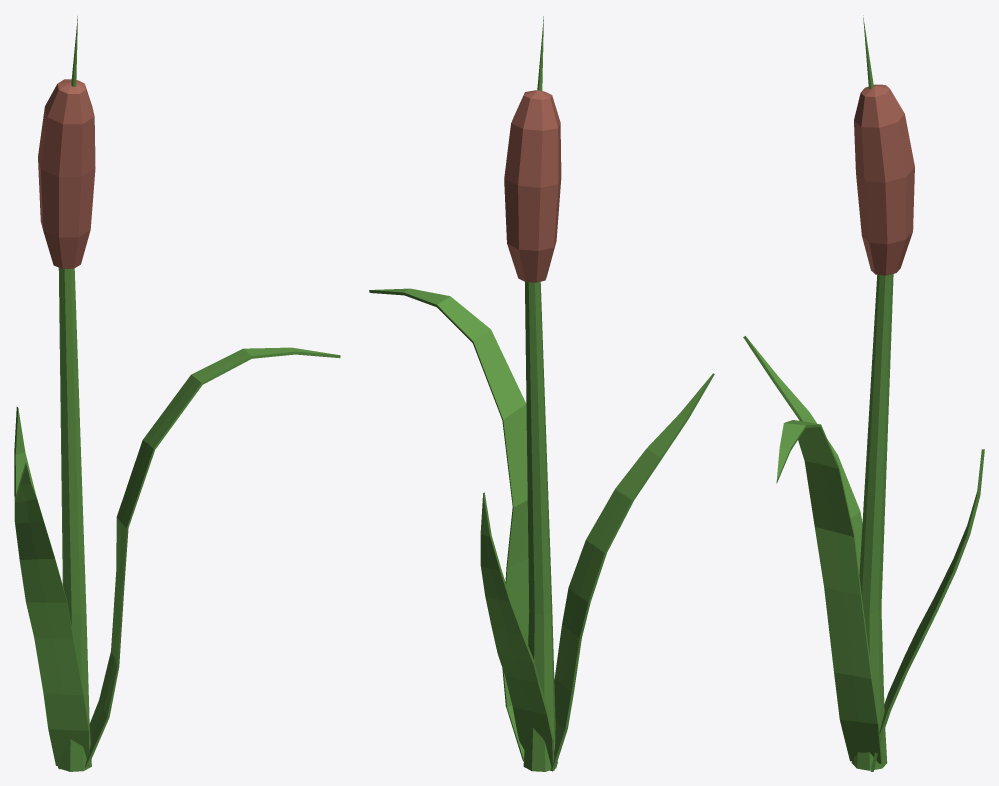
File: thoopRuSii.glb
3 renders of one model, left to right at view 1: azimuth 30°, elevation 25°; view 2: azimuth 150°, elevation 25°; view 3: azimuth 270°, elevation 25°, orthographic.
Visible parts, largest first — view 1: Sphere; view 2: Sphere; view 3: Sphere.
Boxes of the visible parts, x1=… form: Sphere: x1=14, y1=16, x2=340, y2=771; Sphere: x1=369, y1=16, x2=714, y2=771; Sphere: x1=743, y1=15, x2=984, y2=771.
Bounding box in the file's own units: 4.58 × 9.98 × 2.91.
